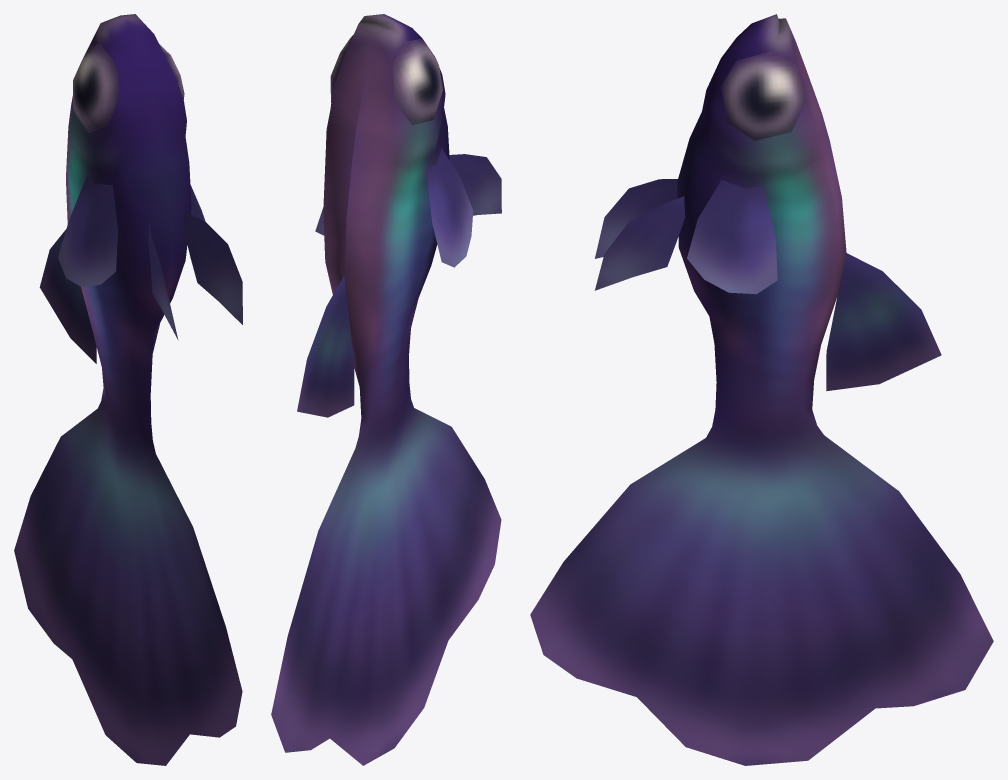
Rendered from guppy.glb.
3 renders of one model, left to right at view 1: azimuth 30°, elevation 25°; view 2: azimuth 150°, elevation 25°; view 3: azimuth 270°, elevation 25°, orthographic.
Visible parts, largest first — view 1: FishGuppi__mGuppi; view 2: FishGuppi__mGuppi; view 3: FishGuppi__mGuppi.
Boxes of the visible parts, box(x1,y1,x2,y2) form: FishGuppi__mGuppi: box(14, 14, 242, 765); FishGuppi__mGuppi: box(271, 14, 501, 765); FishGuppi__mGuppi: box(530, 14, 993, 765).
Size of the model in its own units: 0.0564 by 0.3056 by 0.172.
Materials: 1 (1 with a texture image).
